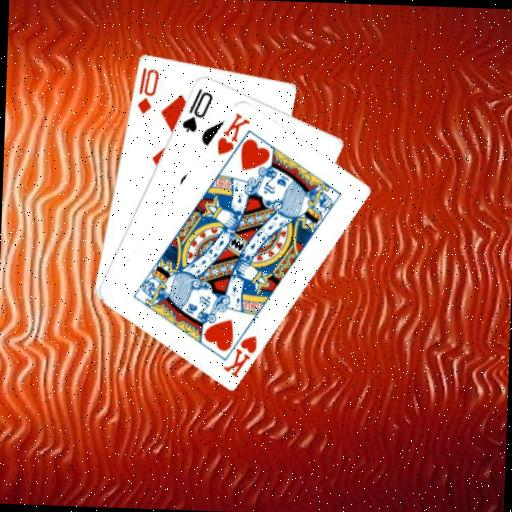10D: (134, 63, 161, 115)
10S: (178, 84, 215, 135)
KH: (213, 108, 252, 157), (219, 331, 258, 379)
